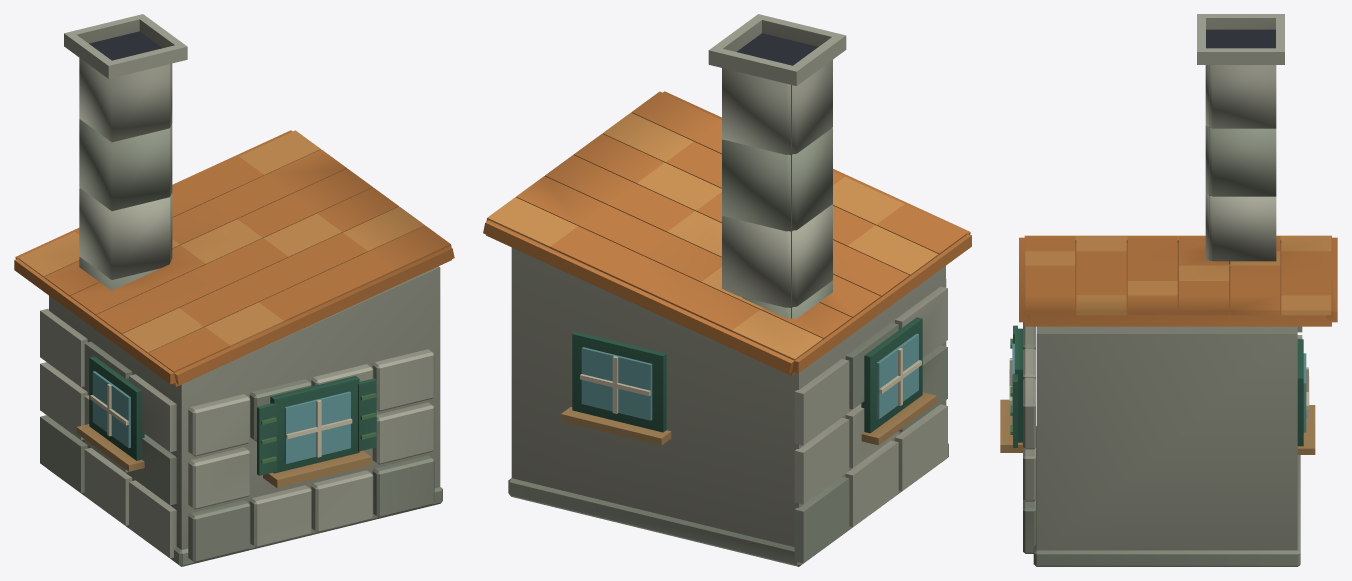
File: kitchen_wing_b.glb
3 renders of one model, left to right at view 1: azimuth 30°, elevation 25°; view 2: azimuth 150°, elevation 25°; view 3: azimuth 270°, elevation 25°, orthographic. The views are drawn at different scales.
Visible parts, largest first — view 1: kitchen_wing_b; view 2: kitchen_wing_b; view 3: kitchen_wing_b.
Part boxes in pixels (bbox=[...]): kitchen_wing_b: bbox=[14, 14, 454, 566]; kitchen_wing_b: bbox=[483, 14, 971, 566]; kitchen_wing_b: bbox=[1000, 14, 1337, 566].
Bounding box in the file's own units: 1.61 × 2.36 × 1.67.
